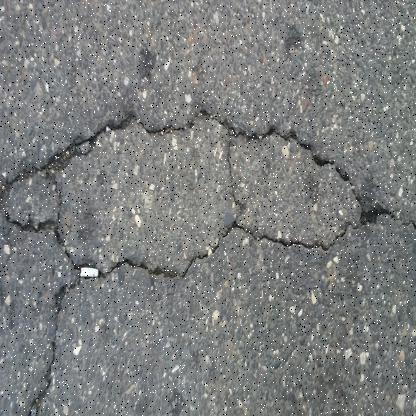Cracks: (0, 95, 415, 290), (23, 264, 88, 415)
